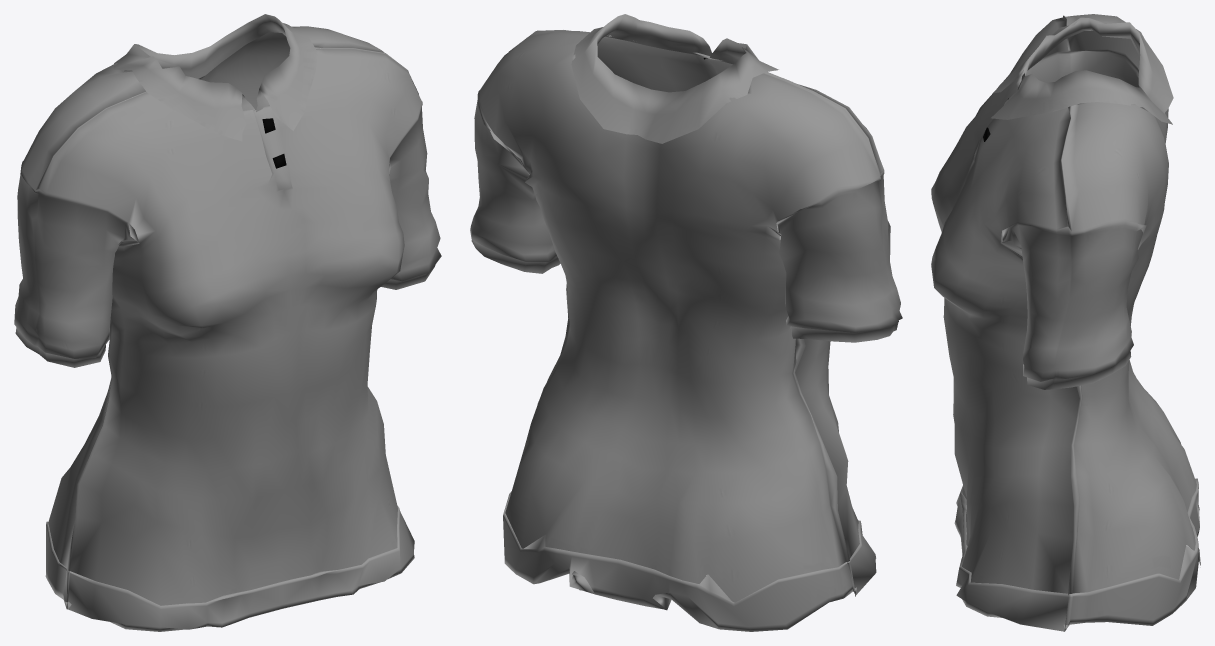
The model's file is namuhekam-male-polo-shirt.glb.
3 renders of one model, left to right at view 1: azimuth 30°, elevation 25°; view 2: azimuth 150°, elevation 25°; view 3: azimuth 270°, elevation 25°, orthographic. The views are drawn at different scales.
Parts seen in each view (by area): view 1: Human.namuhekam_male_polo_shirt; view 2: Human.namuhekam_male_polo_shirt; view 3: Human.namuhekam_male_polo_shirt.
Part boxes in pixels (x1,y1,x2,y2): Human.namuhekam_male_polo_shirt: [14, 14, 441, 631]; Human.namuhekam_male_polo_shirt: [470, 14, 902, 631]; Human.namuhekam_male_polo_shirt: [931, 14, 1200, 631].
Size of the model in its own units: 0.4726 by 0.5918 by 0.2788.
Materials: 1 (1 with a texture image).
